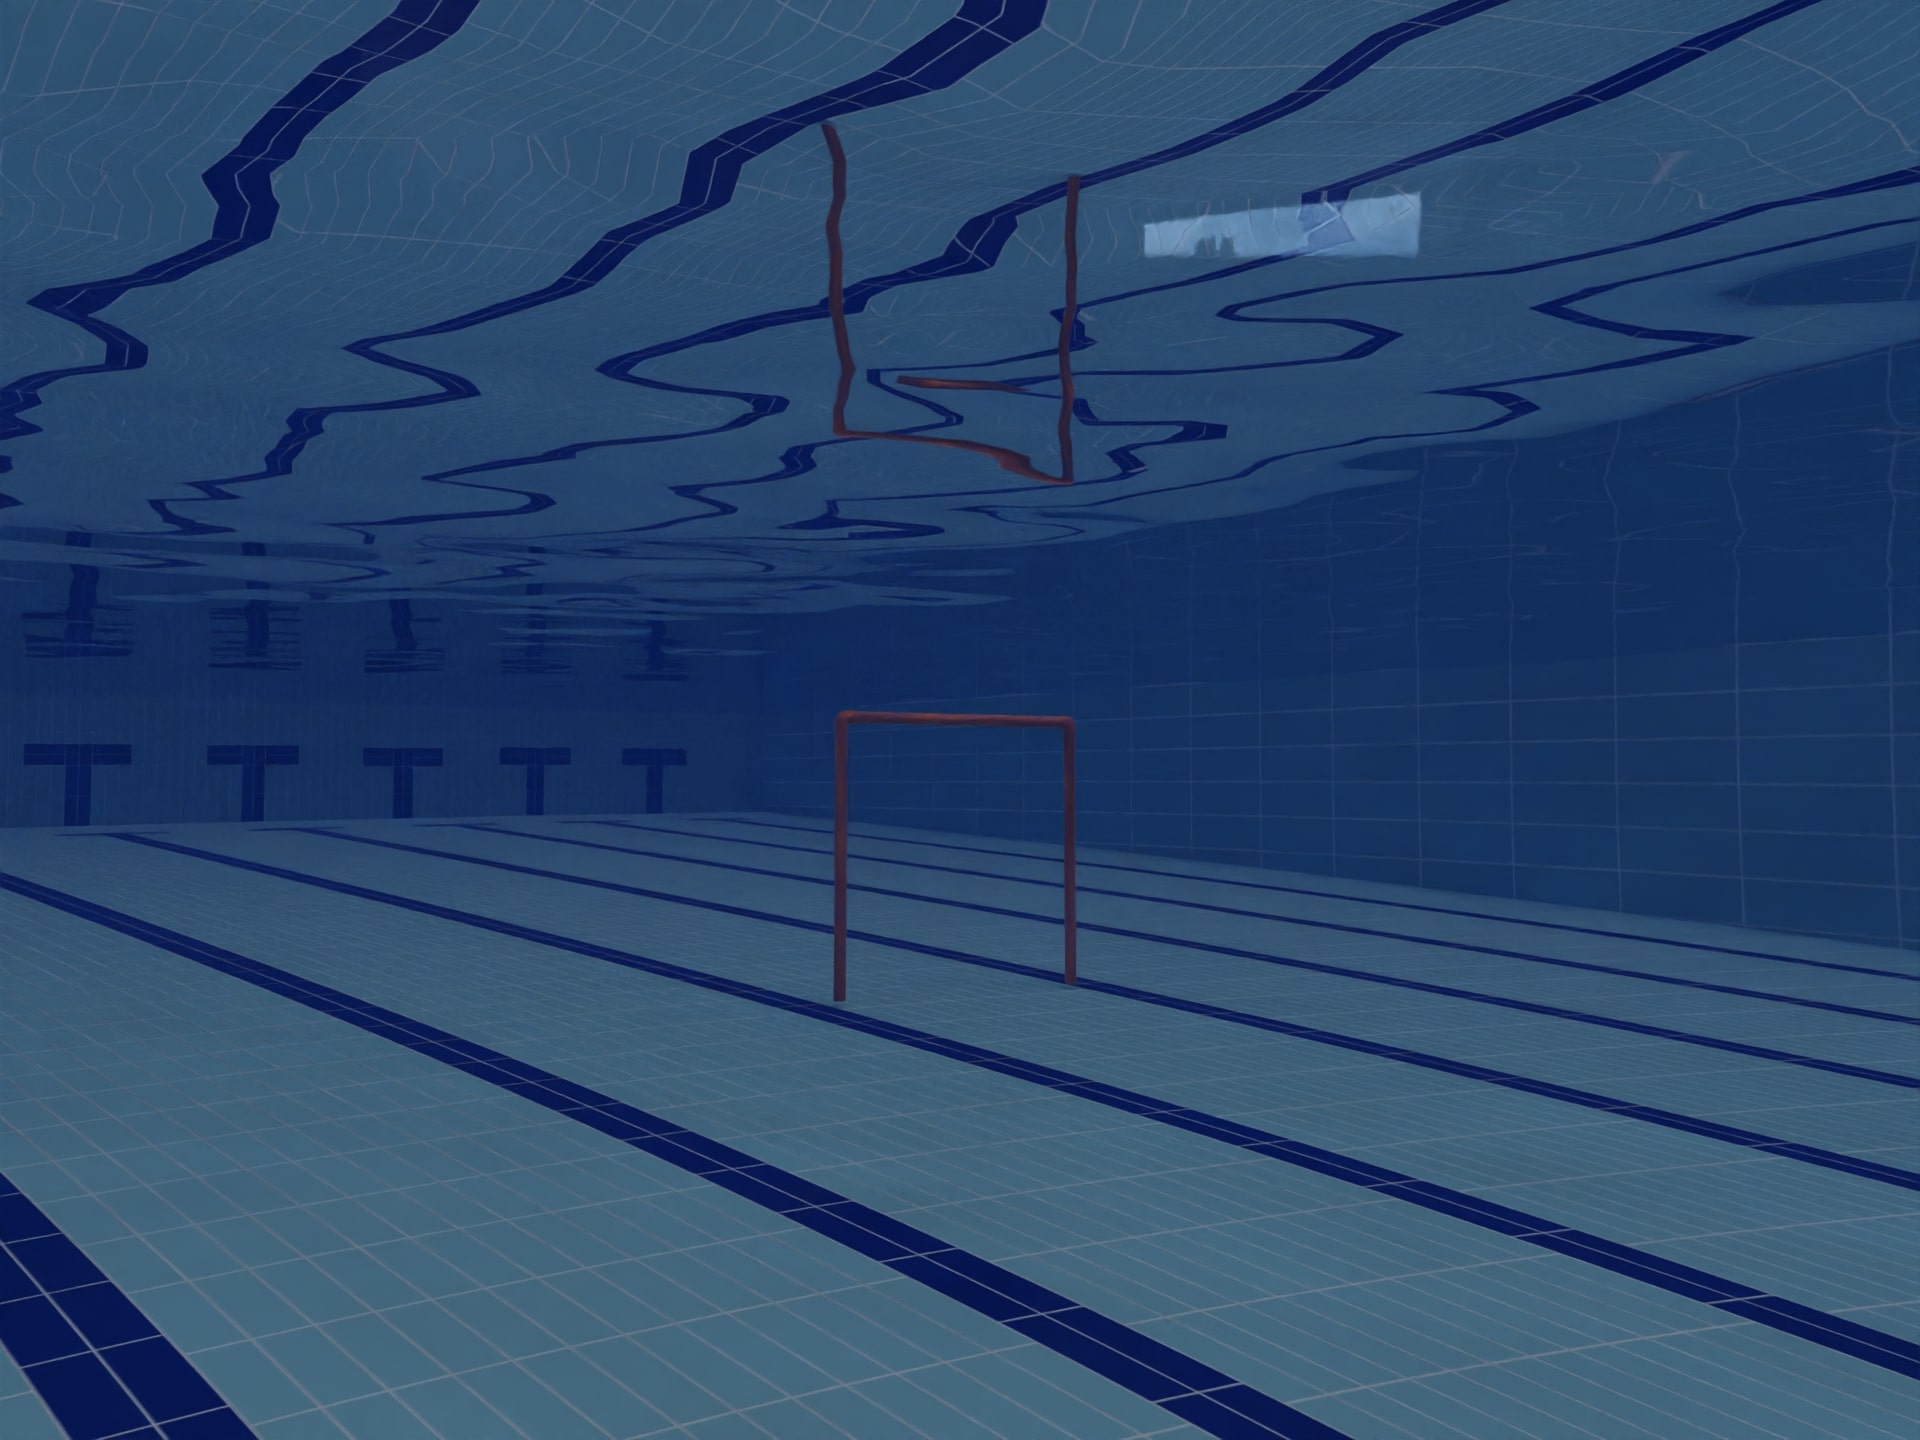gate: (797, 675, 1108, 1045)
